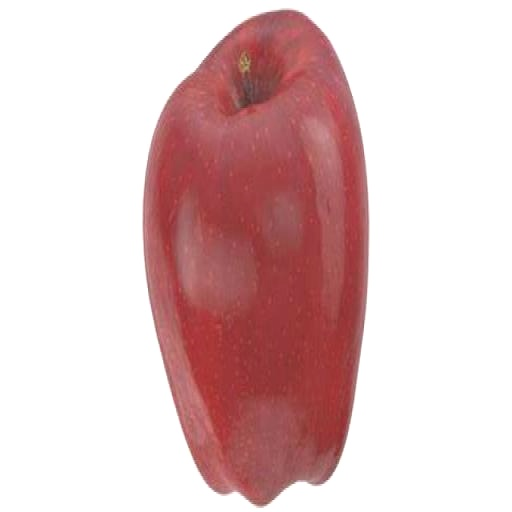fruit: (144, 11, 367, 503)
